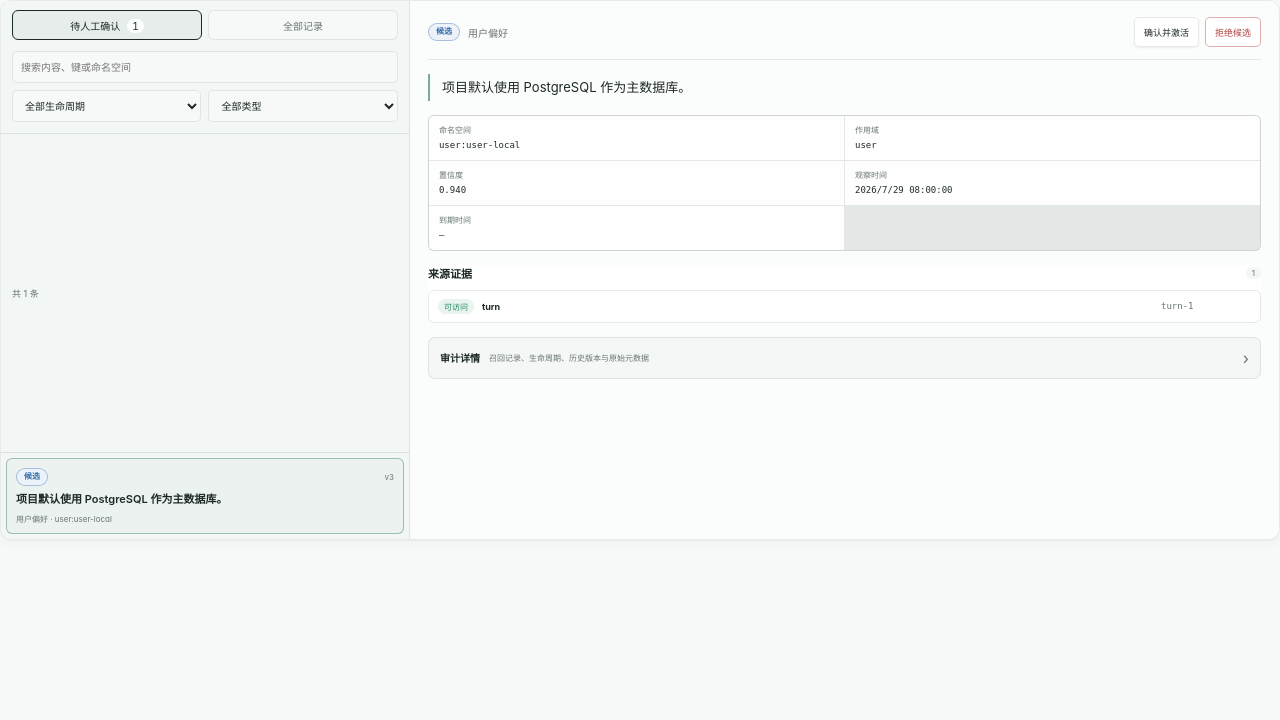
Test case: MemoryWorkbench › lists pending Memory separately and activates it with a human audit reason
Expected: the button "待人工确认 1" is shown, top-left (12, 10), bottom-right (202, 40)
Expected: the text "项目默认使用 PostgreSQL 作为主数据库。" below "共 1 条" is shown, top-left (16, 492), bottom-right (228, 506)
Click the button "确认并激活" at (1166, 32), box top-left (1134, 17), bottom-right (1199, 47)
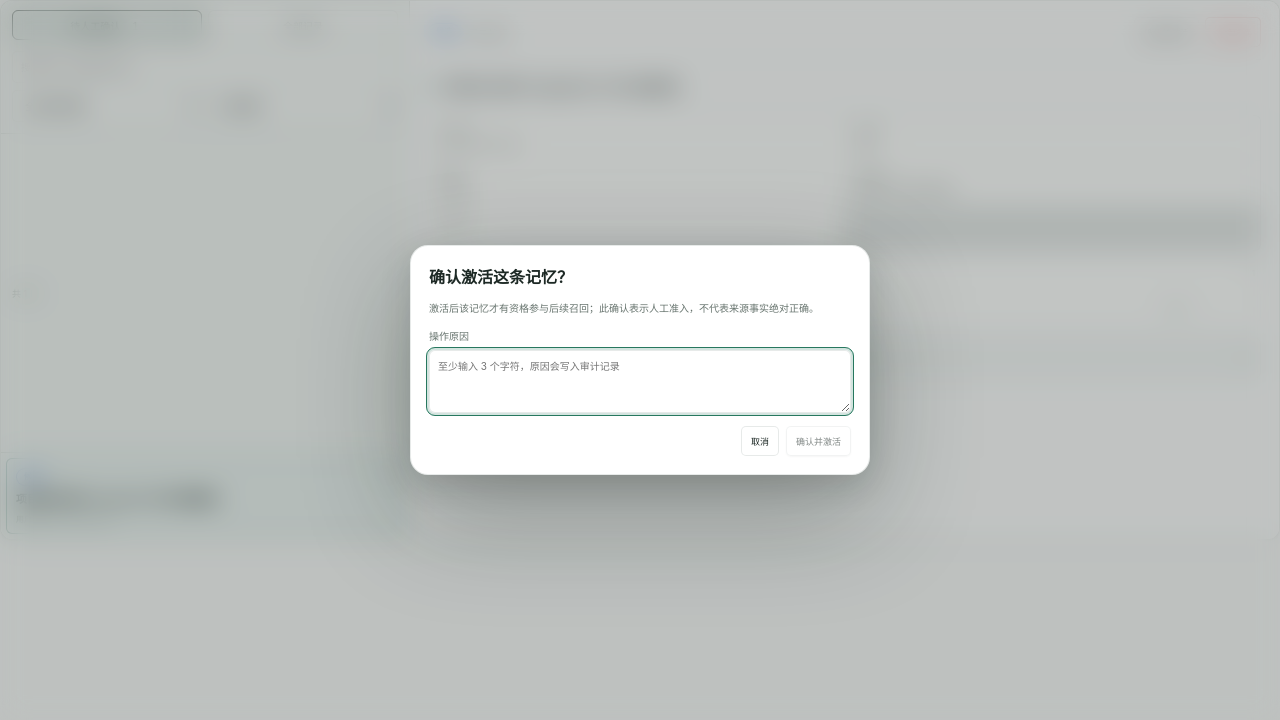
Type "内容与来源已核对" into the text box with placeholder "至少输入 3 个字符，原因会写入审计记录" at (640, 382), box top-left (429, 350), bottom-right (851, 413)
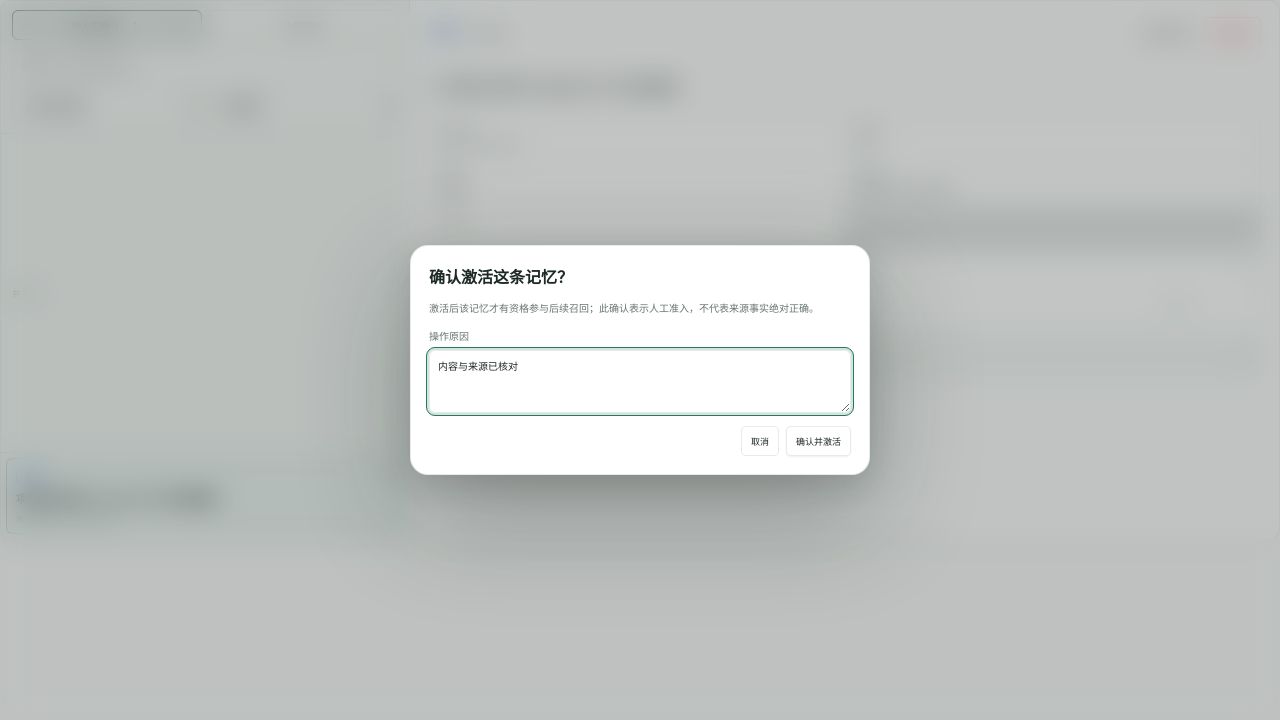
Click the button "确认并激活" at (818, 441), box top-left (786, 426), bottom-right (851, 456)
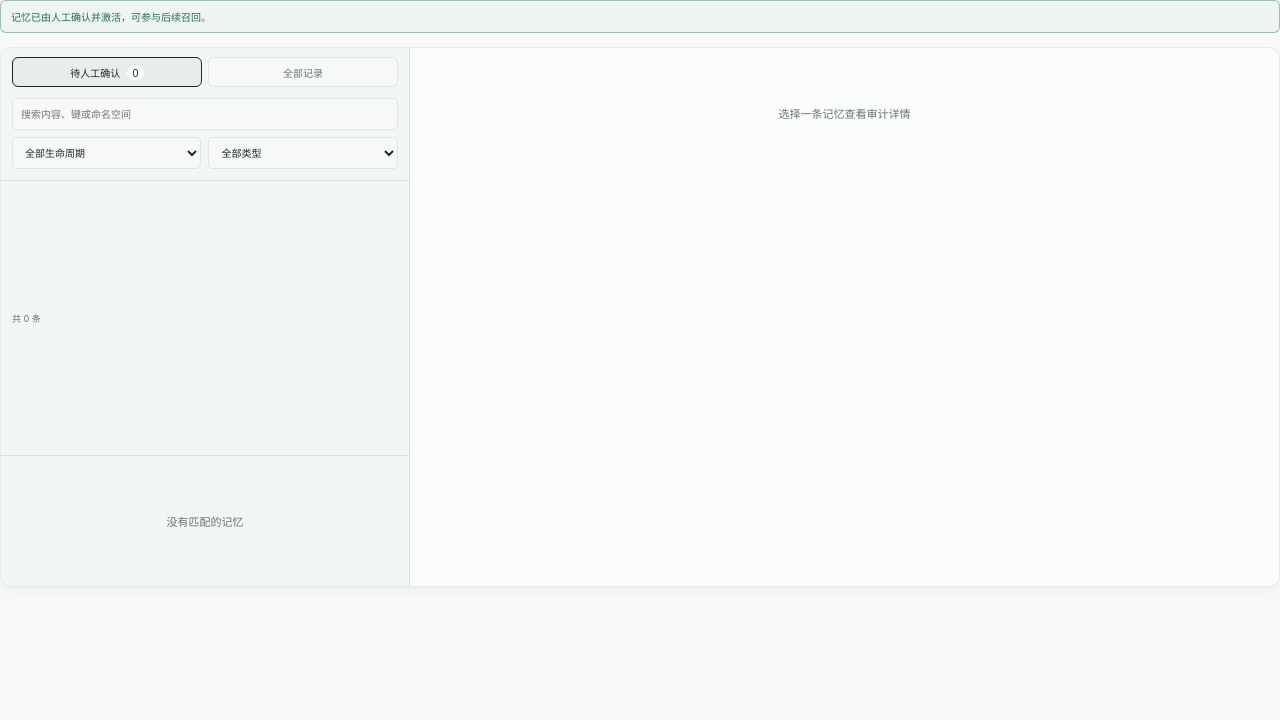
Expected: the text "记忆已由人工确认并激活，可参与后续召回。" is shown, top-left (0, 0), bottom-right (1279, 33)
